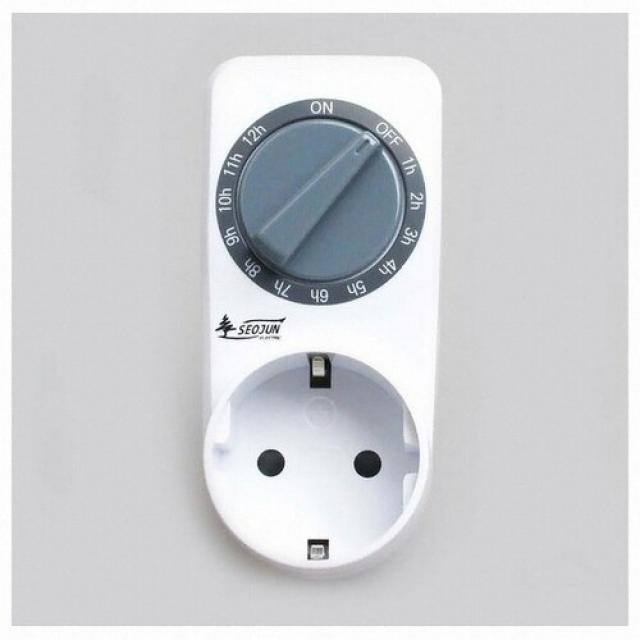typeb: (139, 330, 496, 606)
